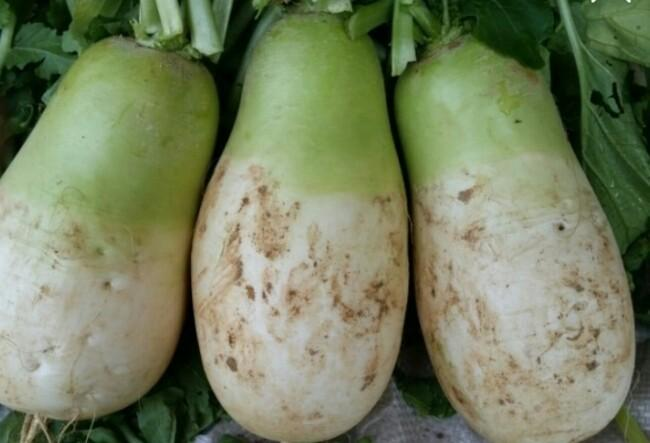radish: (222, 21, 396, 292)
